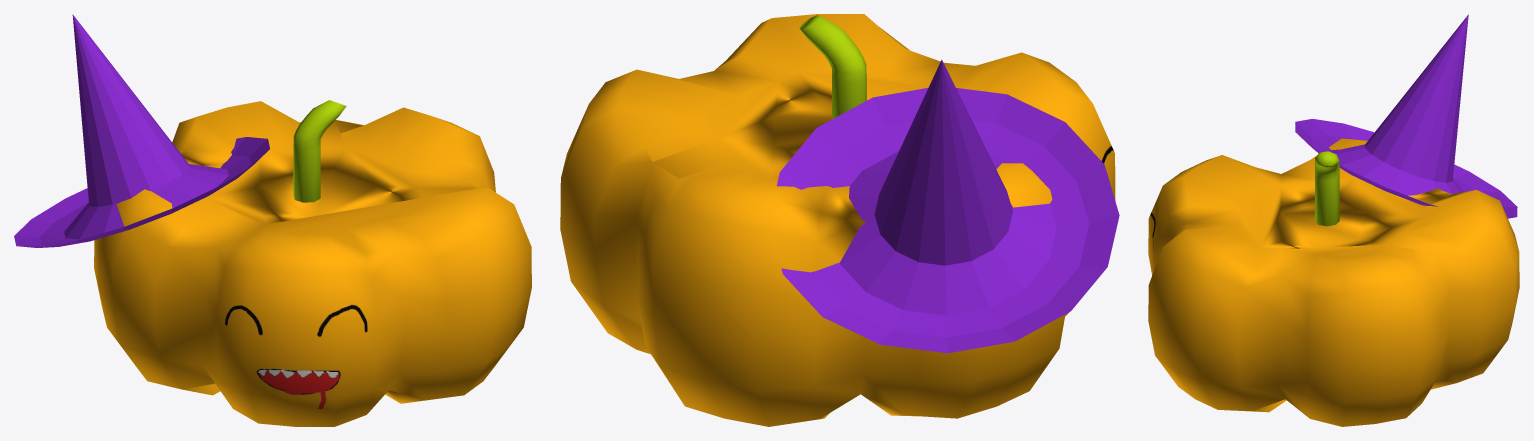
The model's file is jakkun.fbx.
3 views of the same model, side by side, from view 1: azimuth 30°, elevation 25°; view 2: azimuth 150°, elevation 25°; view 3: azimuth 270°, elevation 25° (orthographic). The views are drawn at different scales.
Visible parts, largest first — view 1: Cylinder, Cone; view 2: Cylinder, Cone; view 3: Cylinder, Cone.
Boxes of the visible parts, x1,y1,x2,y2 form: Cylinder: (94,100,531,426); Cone: (14,14,269,247); Cylinder: (560,14,1115,426); Cone: (776,59,1119,353); Cylinder: (1148,138,1519,426); Cone: (1295,14,1517,218).
Size of the model in its own units: 303 by 219 by 256.
